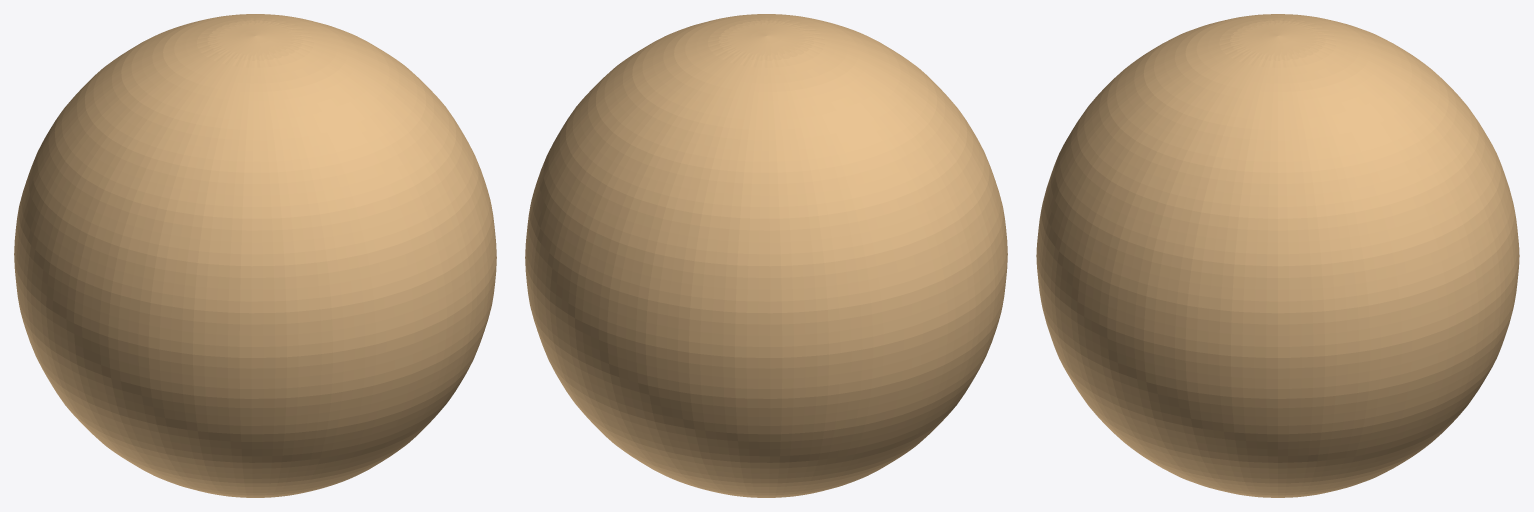
File: pizzaDough.fbx
3 renders of one model, left to right at view 1: azimuth 30°, elevation 25°; view 2: azimuth 150°, elevation 25°; view 3: azimuth 270°, elevation 25°, orthographic.
Parts seen in each view (by area): view 1: Sphere; view 2: Sphere; view 3: Sphere.
Part boxes in pixels (left/top/right/bottom): Sphere: left=14, top=14, right=496, bottom=497; Sphere: left=525, top=14, right=1007, bottom=497; Sphere: left=1036, top=14, right=1519, bottom=497.
Size of the model in its own units: 39.61 by 39.82 by 39.61.
